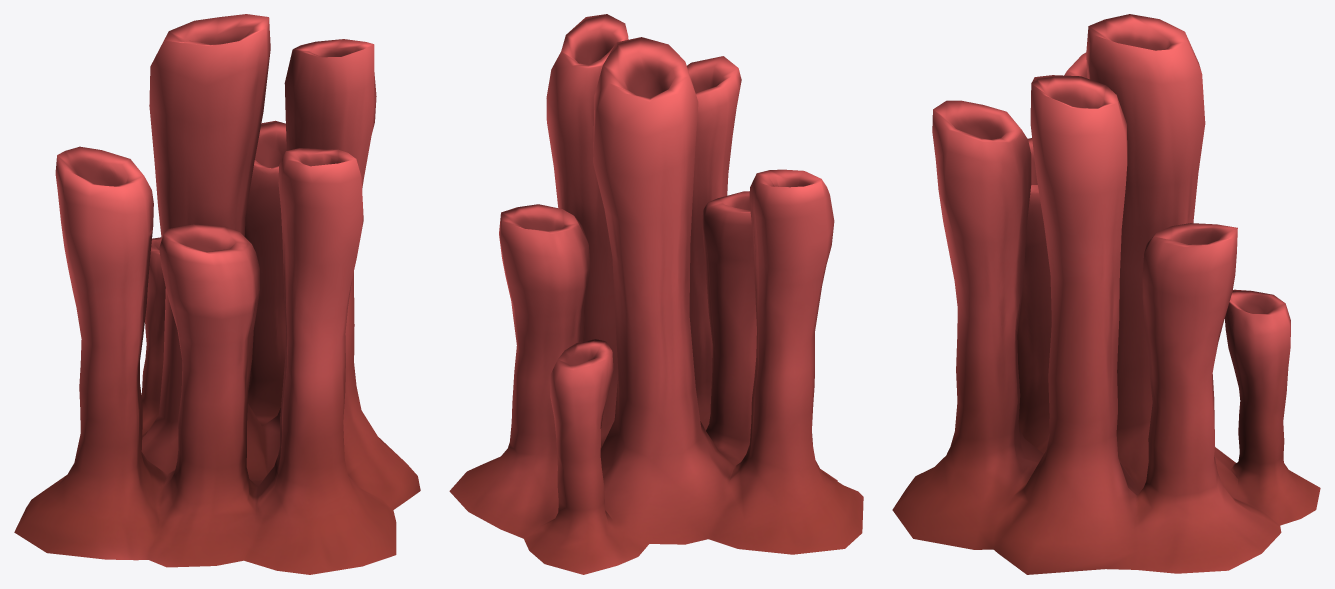
File: coral5.fbx
The picture shows the model from 3 angles, left to right: view 1: azimuth 30°, elevation 25°; view 2: azimuth 150°, elevation 25°; view 3: azimuth 270°, elevation 25°; orthographic projection. The views are drawn at different scales.
Parts seen in each view (by area): view 1: coral25; view 2: coral25; view 3: coral25.
Boxes of the visible parts, x1=… form: coral25: x1=14, y1=14, x2=420, y2=574; coral25: x1=449, y1=14, x2=863, y2=574; coral25: x1=892, y1=14, x2=1320, y2=574.
Size of the model in its own units: 3.82 by 4.61 by 3.71.
1 material, 1 textured.
